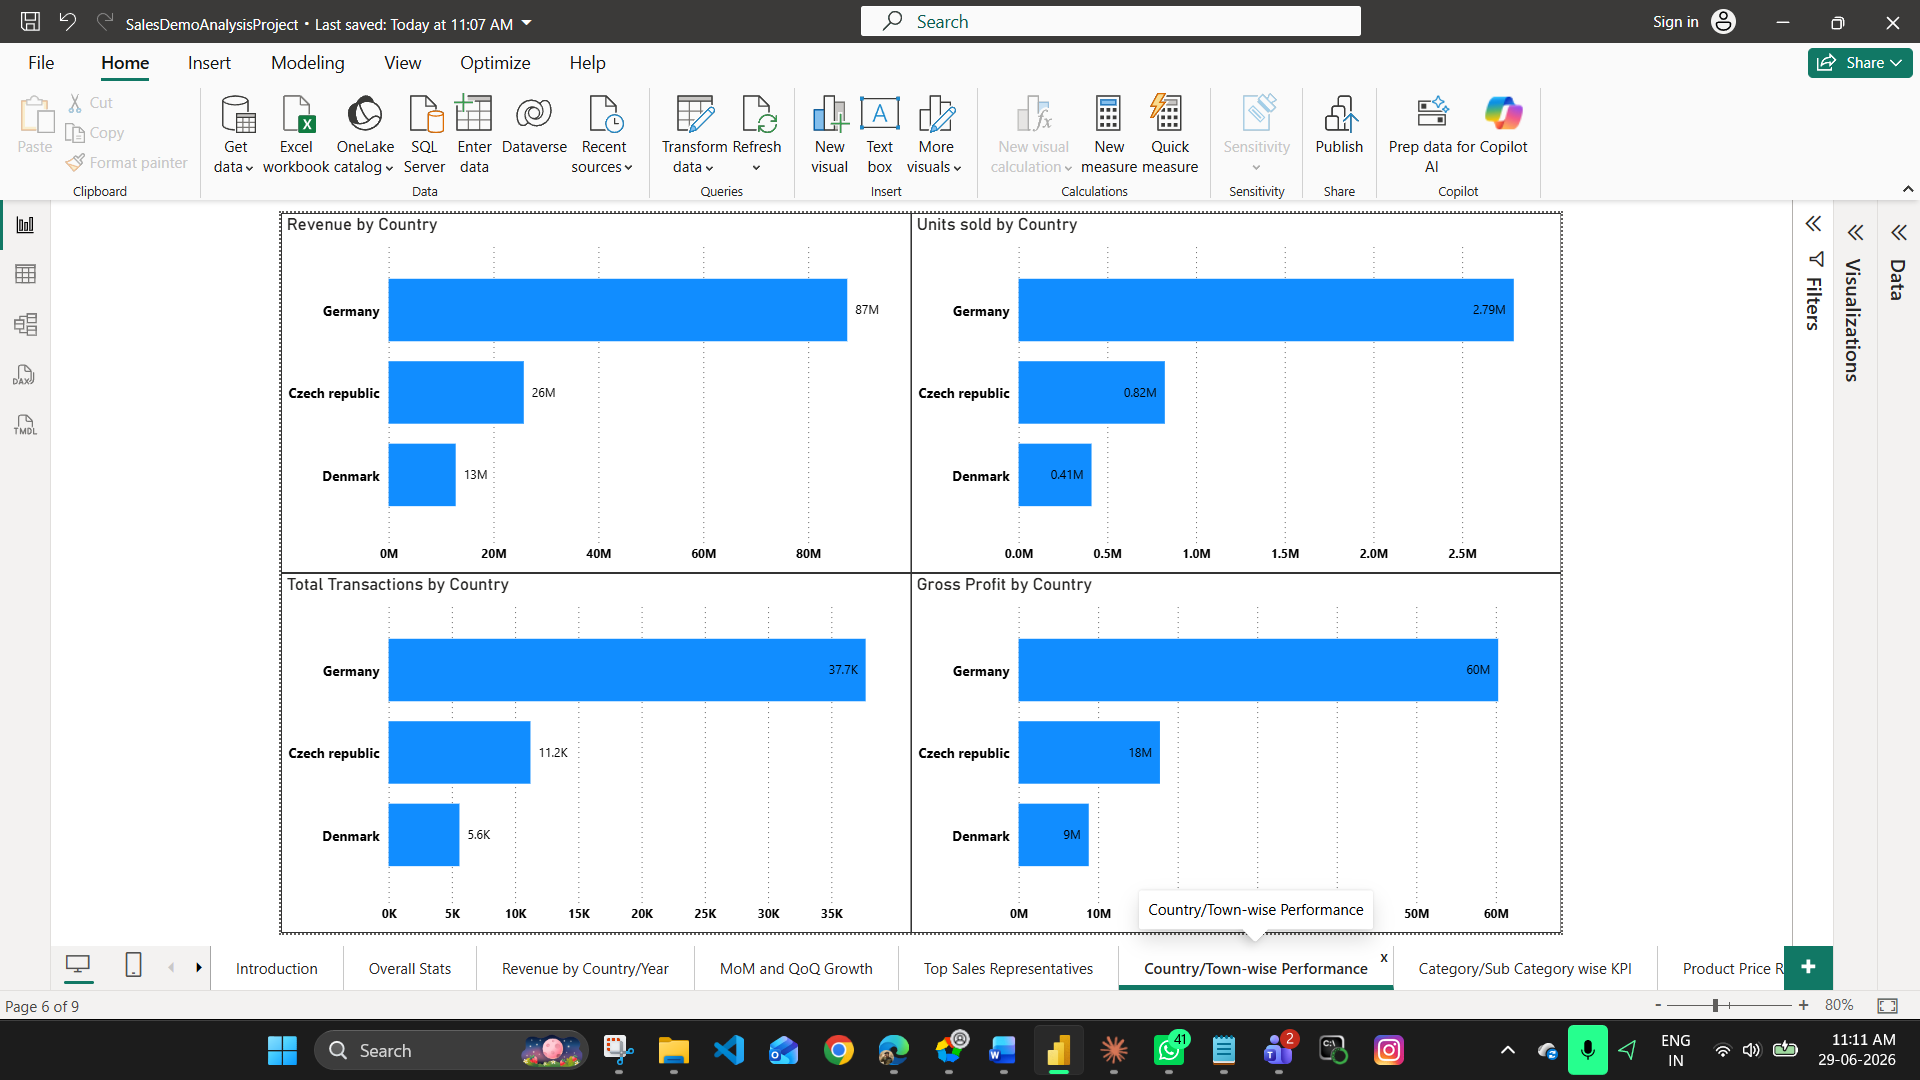

The page's visual inventory and layout, read from the dashboard file:
{"tool":"powerbi","page":{"name":"Country/Town-wise Performance","canvas":[1280,720],"ordinal":5},"visuals":[{"type":"clusteredBarChart","title":"Revenue by Country","fields":{"Category":["DimGeography.Country","DimGeography.Town"],"Y":["Sum(FactSales.Total Revenue)"]},"box":[0,0,630,360],"z":0},{"type":"clusteredBarChart","title":"Units sold by Country","fields":{"Category":["DimGeography.Country","DimGeography.Town"],"Y":["Sum(FactSales.Units)"]},"box":[630,0,650,360],"z":1000},{"type":"clusteredBarChart","title":"Total Transactions by Country","fields":{"Category":["DimGeography.Country","DimGeography.Town"],"Y":["FactSales.Total Transactions"]},"box":[0,360,630,360],"z":2000},{"type":"clusteredBarChart","title":"Gross Profit by Country","fields":{"Category":["DimGeography.Country","DimGeography.Town"],"Y":["Sum(FactSales.Gross Profit)"]},"box":[630,360,650,360],"z":3000}]}

Visuals, with their boxes on the page's 1280x720 design canvas (x1, y1, x2, y2). These are canvas units, not pixel positions in the 1920x1080 screenshot, which may show the page scaled, cropped or inside an application window:
"Revenue by Country" clusteredBarChart: box=[0, 0, 630, 360]
"Units sold by Country" clusteredBarChart: box=[630, 0, 1280, 360]
"Total Transactions by Country" clusteredBarChart: box=[0, 360, 630, 720]
"Gross Profit by Country" clusteredBarChart: box=[630, 360, 1280, 720]
